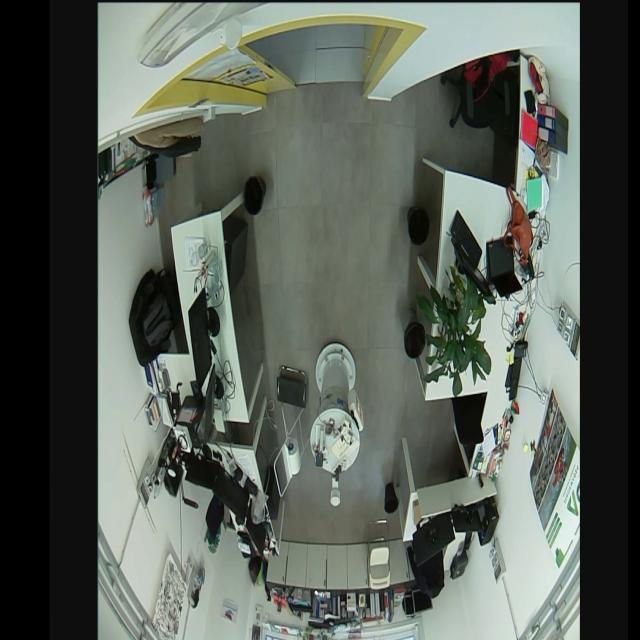Open: (249, 16, 385, 100)
